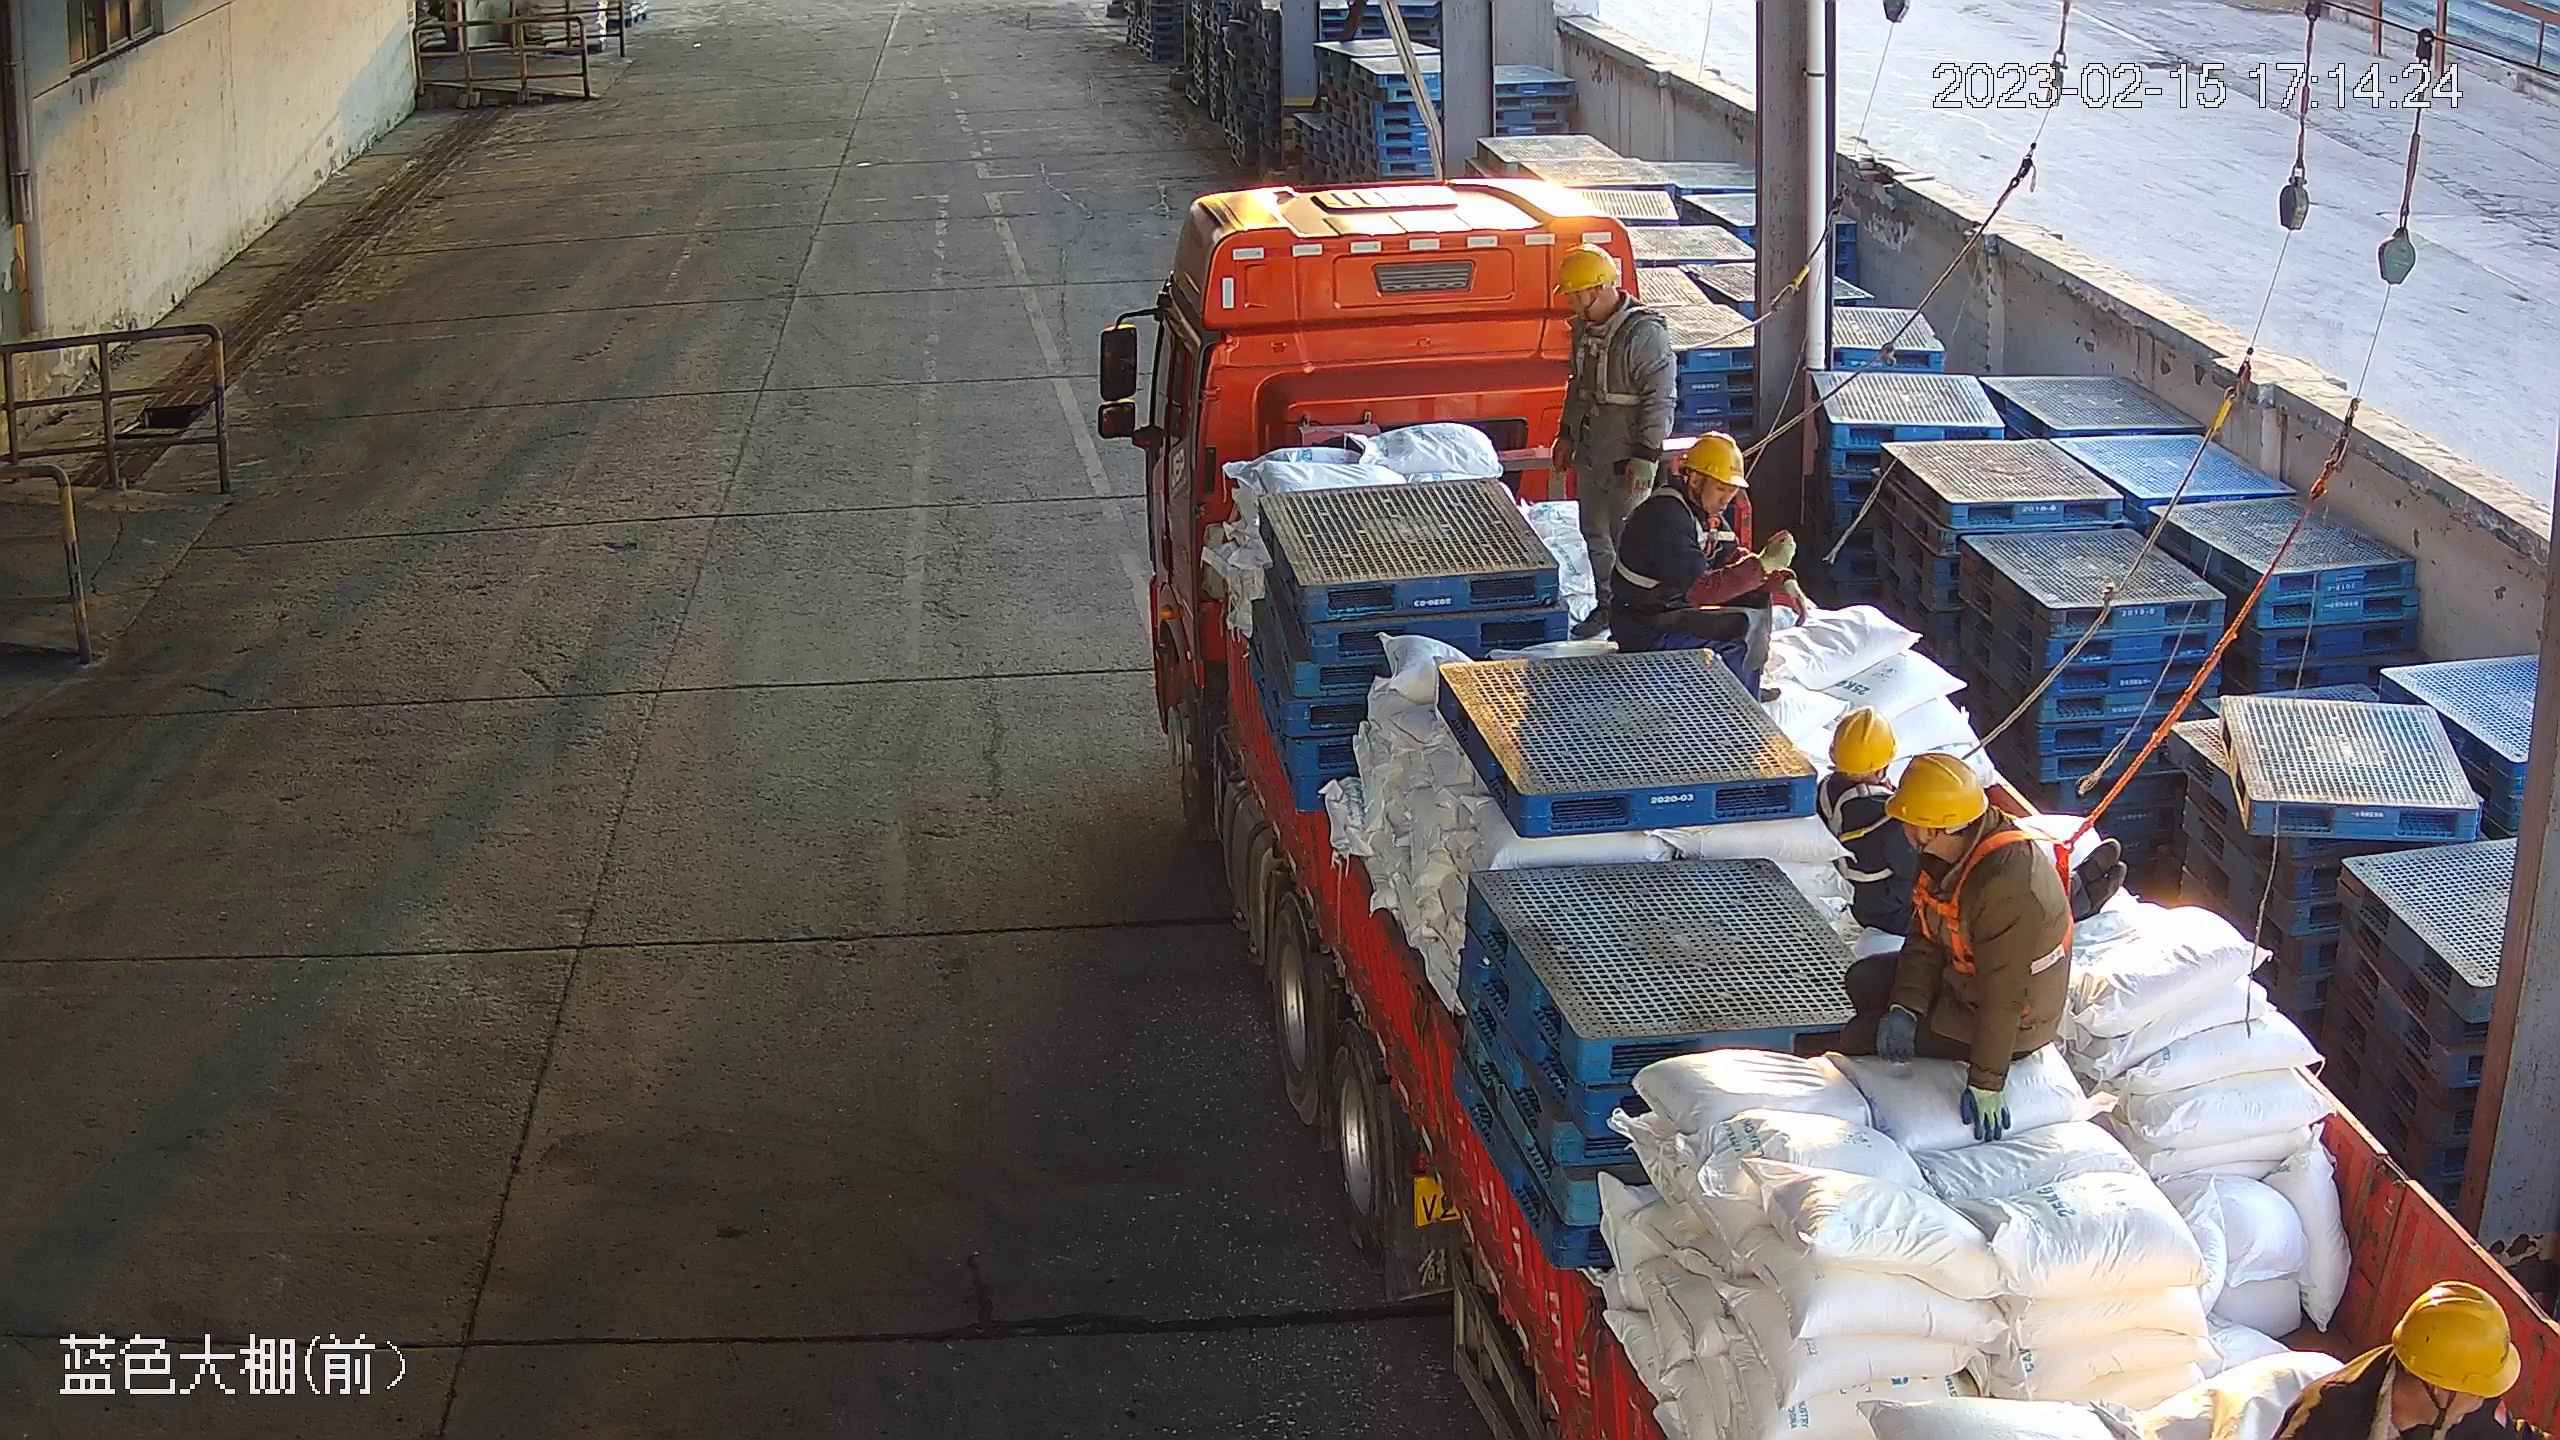belt: (1910, 810, 2076, 975), (1614, 482, 1735, 591), (1820, 772, 1899, 882), (1573, 306, 1660, 405)
head: (1884, 755, 2046, 910), (1551, 244, 1673, 350), (1631, 431, 1746, 537), (1816, 707, 1898, 827)
helmet: (2390, 1281, 2524, 1400), (1885, 754, 1990, 829), (1828, 707, 1898, 775), (1681, 431, 1750, 489), (1552, 243, 1623, 297)
people: (1839, 754, 2075, 1142), (1816, 706, 2128, 939), (1608, 431, 1807, 705), (1550, 242, 1678, 638)
truck: (1091, 178, 2560, 1440)
